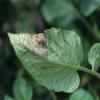Potato leaf late blight: (7, 26, 85, 95)
